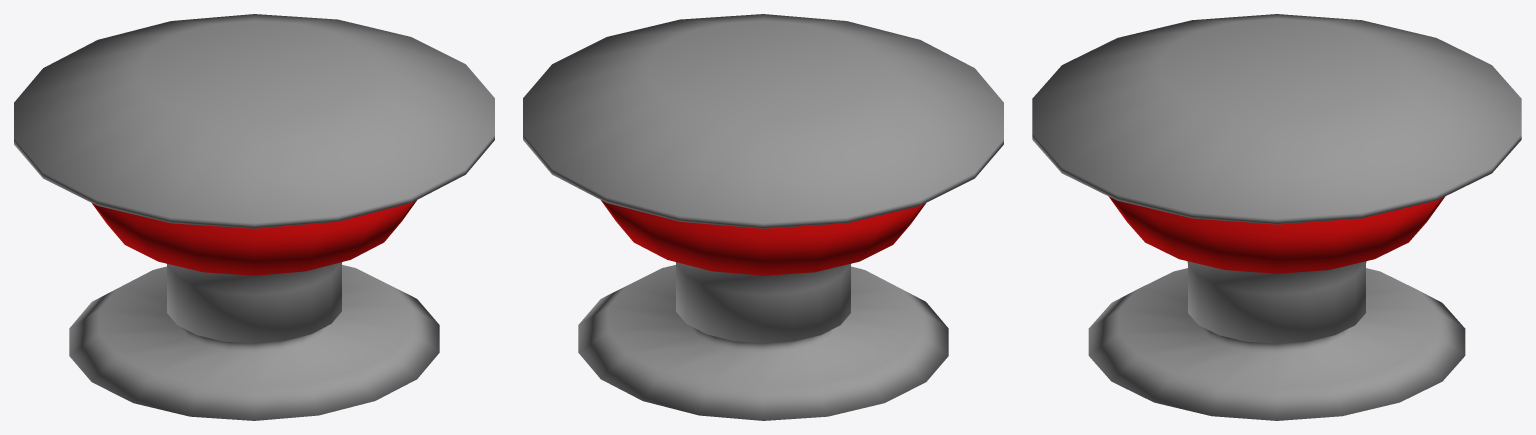
Rendered from Bumper.FBX.
3 views of the same model, side by side, from view 1: azimuth 30°, elevation 25°; view 2: azimuth 150°, elevation 25°; view 3: azimuth 270°, elevation 25° (orthographic).
Parts seen in each view (by area): view 1: Bumper003; view 2: Bumper003; view 3: Bumper003.
Boxes of the visible parts, <box> form: Bumper003: <box>14,14,494,420</box>; Bumper003: <box>523,14,1003,420</box>; Bumper003: <box>1032,14,1521,420</box>.
Bounding box in the file's own units: 4.02 × 2.78 × 3.96.
